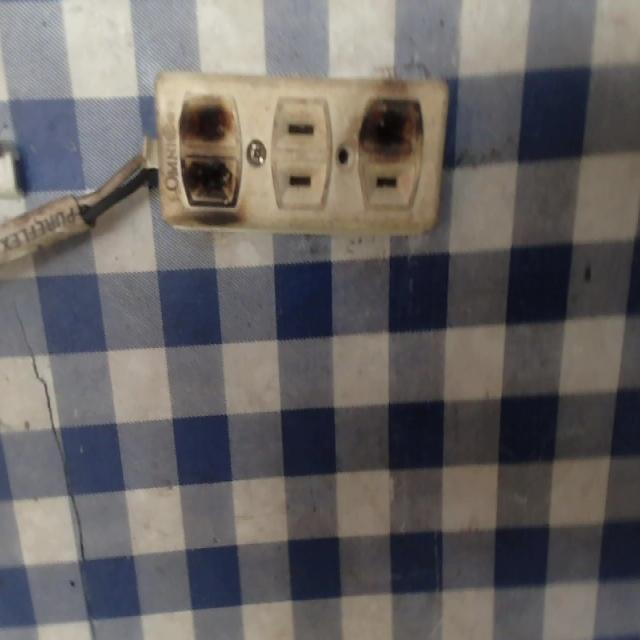-: (176, 88, 245, 227), (353, 88, 424, 164)
